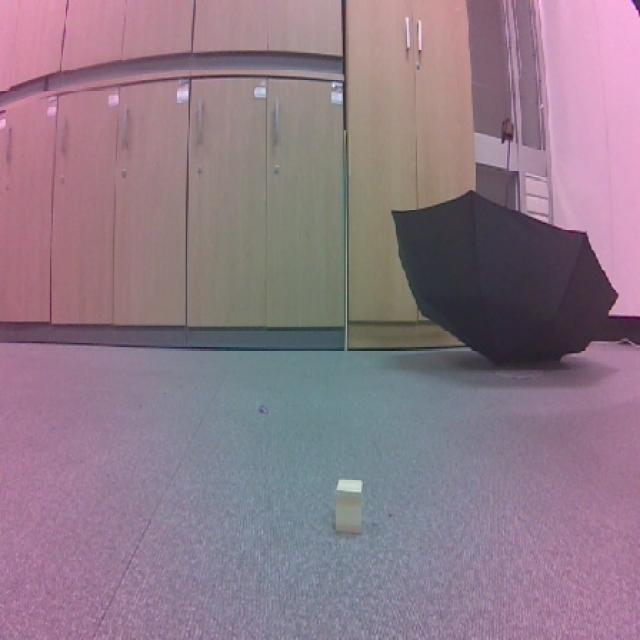obstacle: (328, 470, 372, 544)
